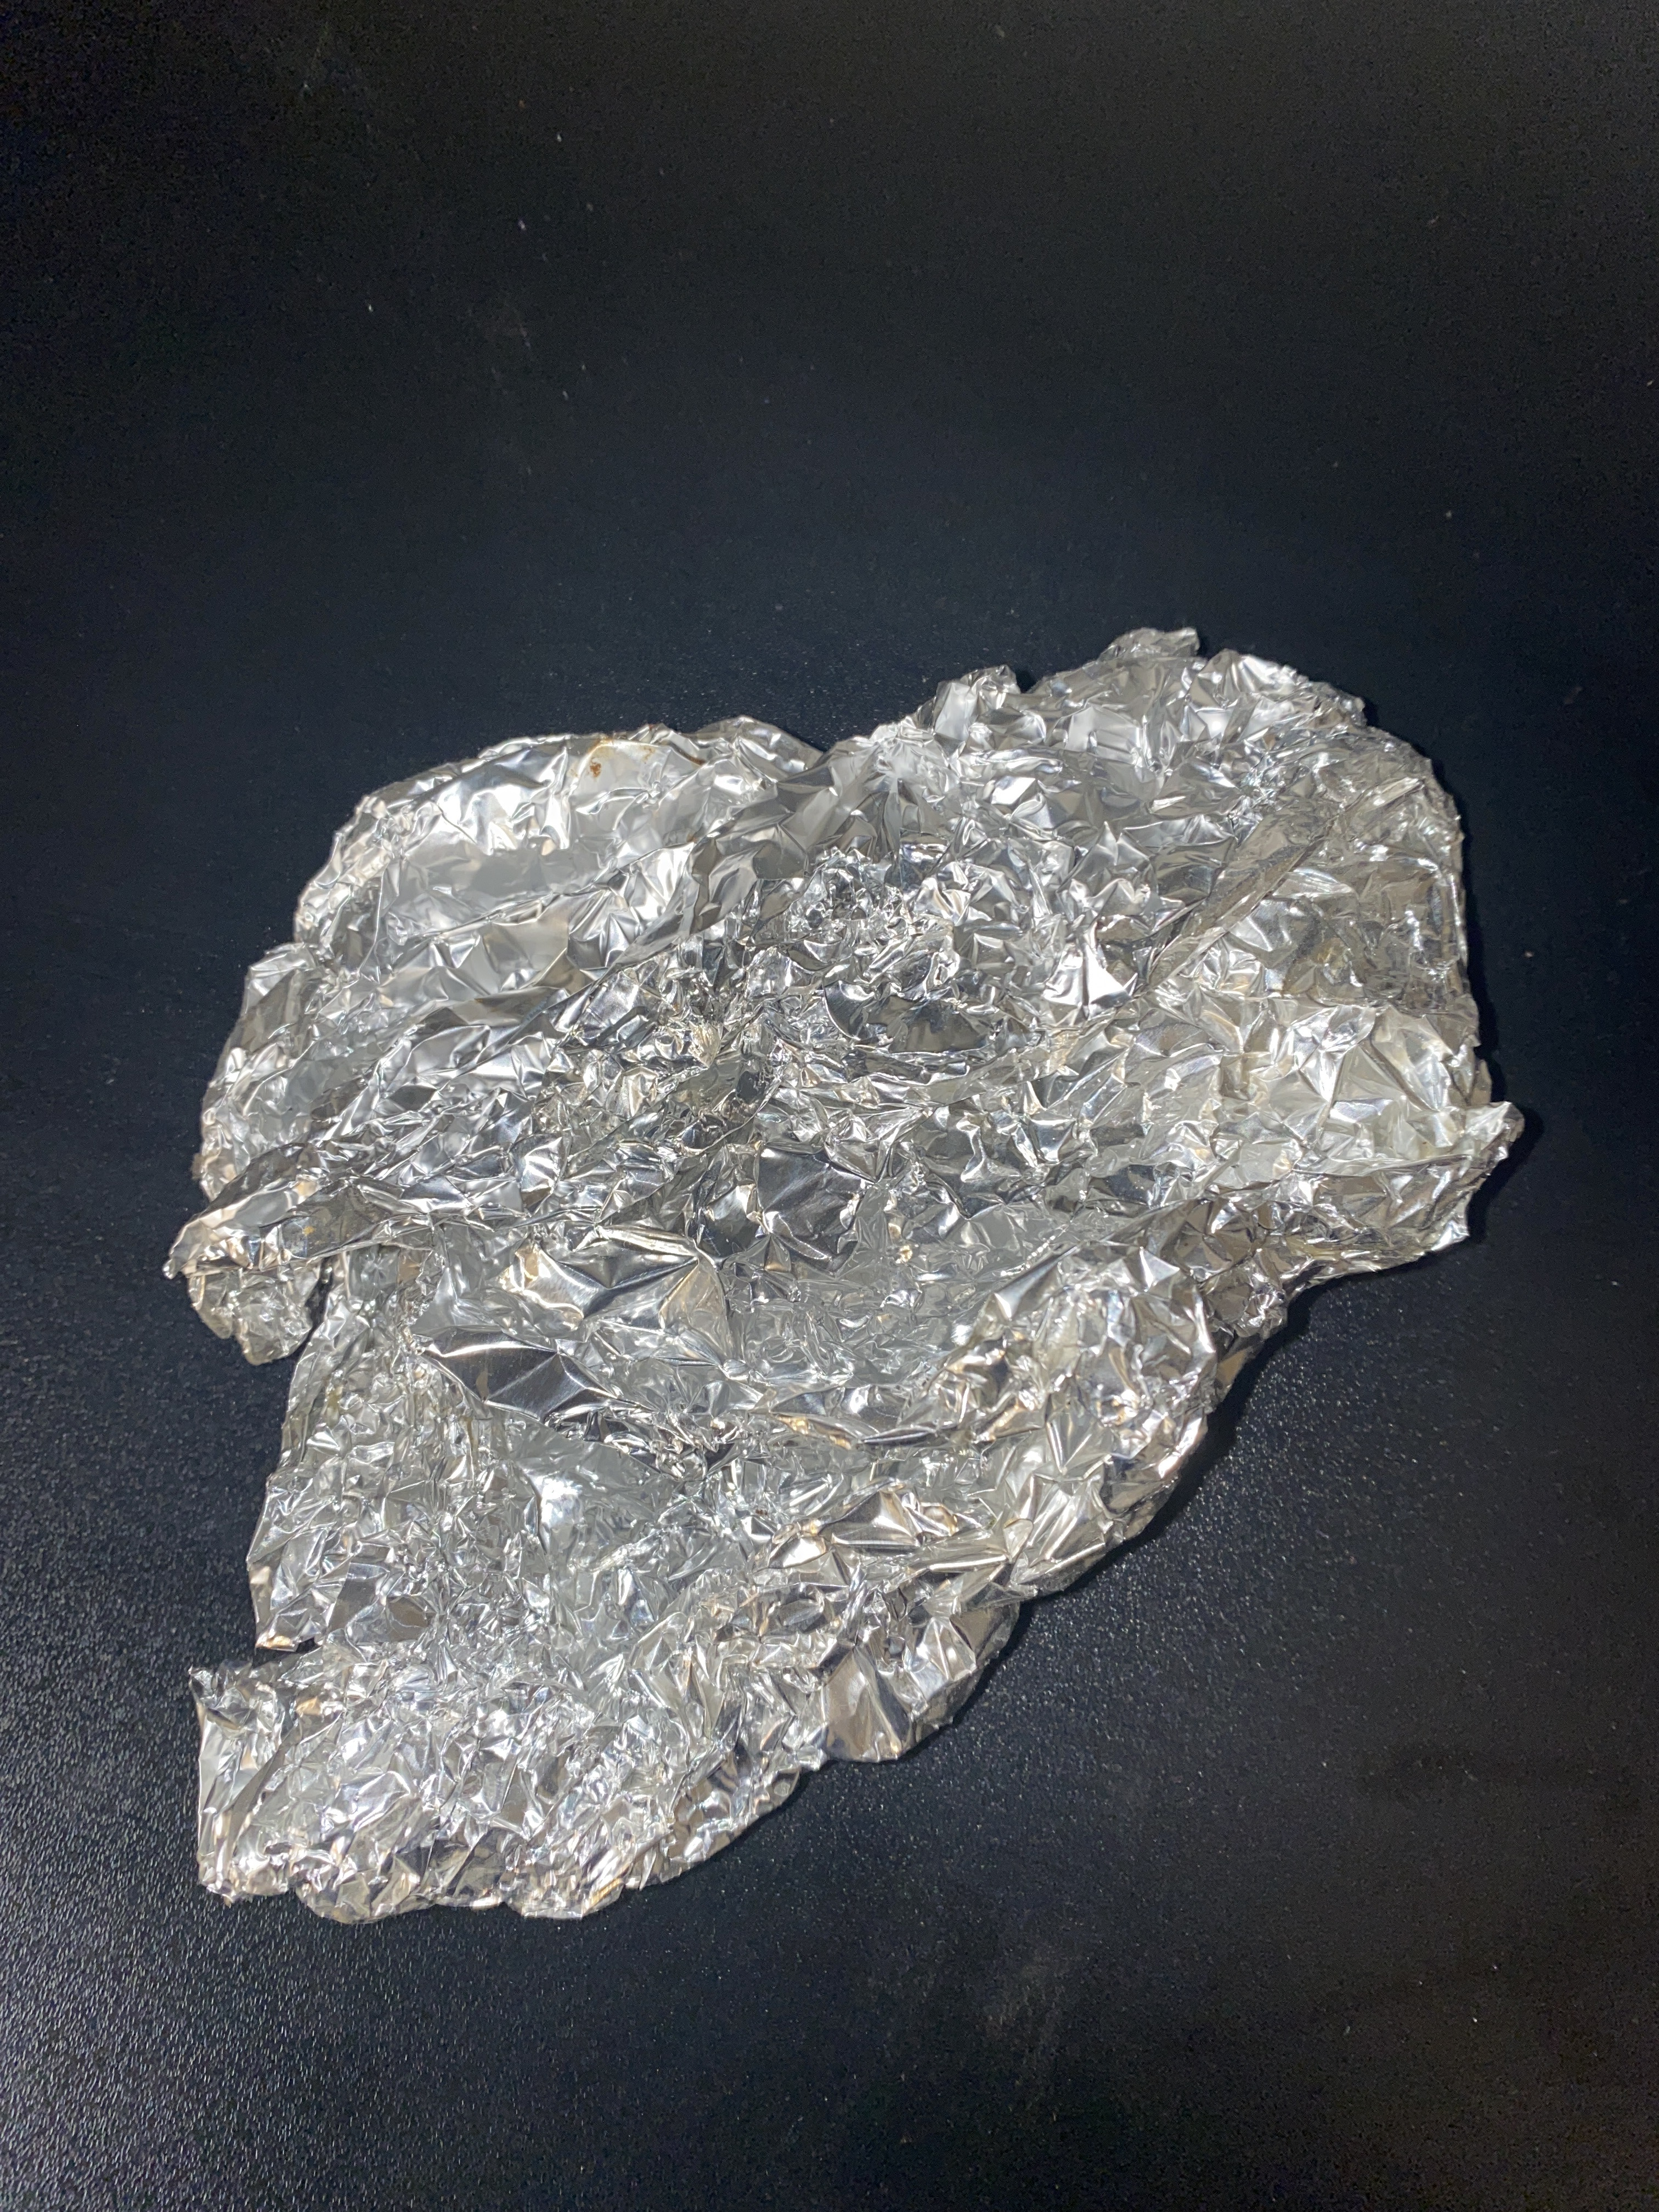metal: (132, 545, 1541, 2022)
